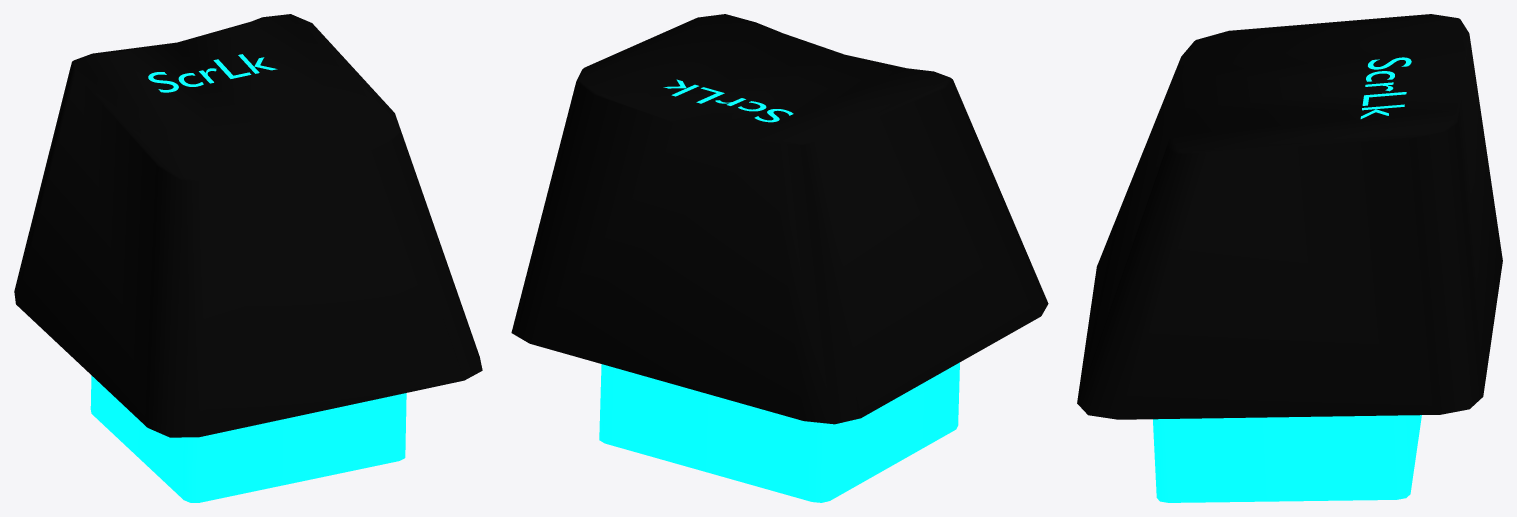
Rendered from scrlk-XOwhboHt.glb.
3 renders of one model, left to right at view 1: azimuth 30°, elevation 25°; view 2: azimuth 150°, elevation 25°; view 3: azimuth 270°, elevation 25°, orthographic. The views are drawn at different scales.
Visible parts, largest first — view 1: StudyShelf_1090; view 2: StudyShelf_1090; view 3: StudyShelf_1090.
Boxes of the visible parts, box(x1,y1,x2,y2) form: StudyShelf_1090: box(14, 14, 482, 502); StudyShelf_1090: box(511, 14, 1048, 502); StudyShelf_1090: box(1077, 14, 1502, 502).
Size of the model in its own units: 4.35 by 4.28 by 4.35.
